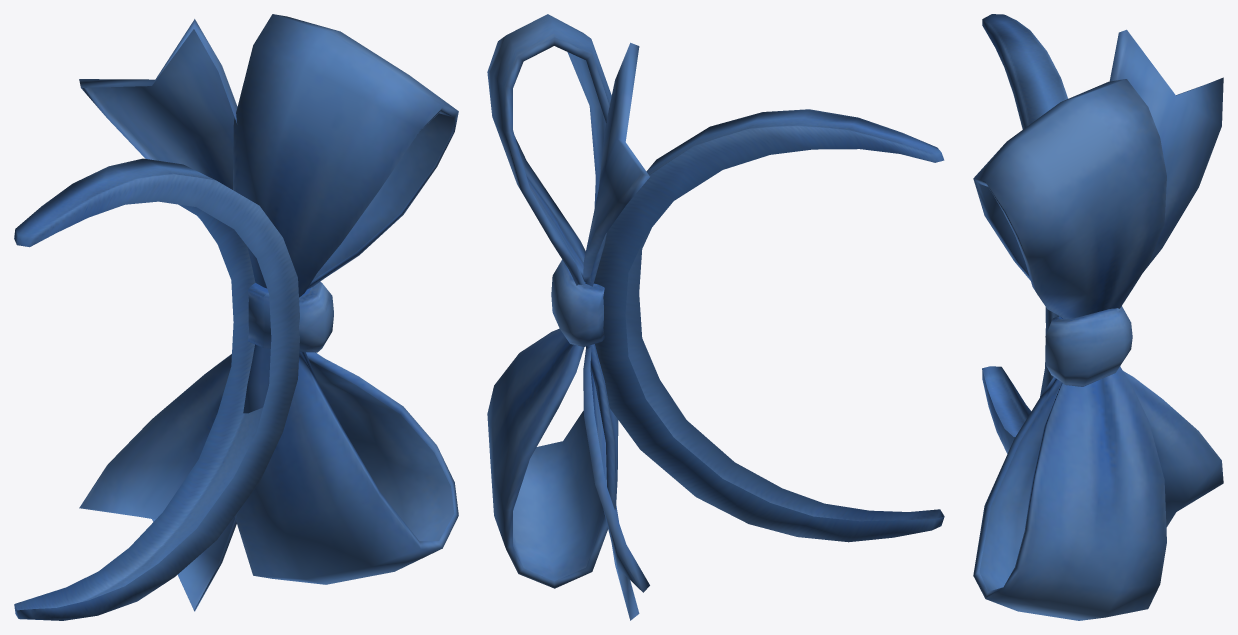
Rendered from M_RibbonHeadband.fbx.
3 views of the same model, side by side, from view 1: azimuth 30°, elevation 25°; view 2: azimuth 150°, elevation 25°; view 3: azimuth 270°, elevation 25° (orthographic). The views are drawn at different scales.
Parts seen in each view (by area): view 1: 24_hdb rib_0.5_0_0; view 2: 24_hdb rib_0.5_0_0; view 3: 24_hdb rib_0.5_0_0.
Boxes of the visible parts, box(x1,y1,x2,y2) form: 24_hdb rib_0.5_0_0: box(14, 14, 458, 620); 24_hdb rib_0.5_0_0: box(487, 14, 944, 620); 24_hdb rib_0.5_0_0: box(973, 14, 1223, 620).
Size of the model in its own units: 0.1299 by 0.1623 by 0.0657.
